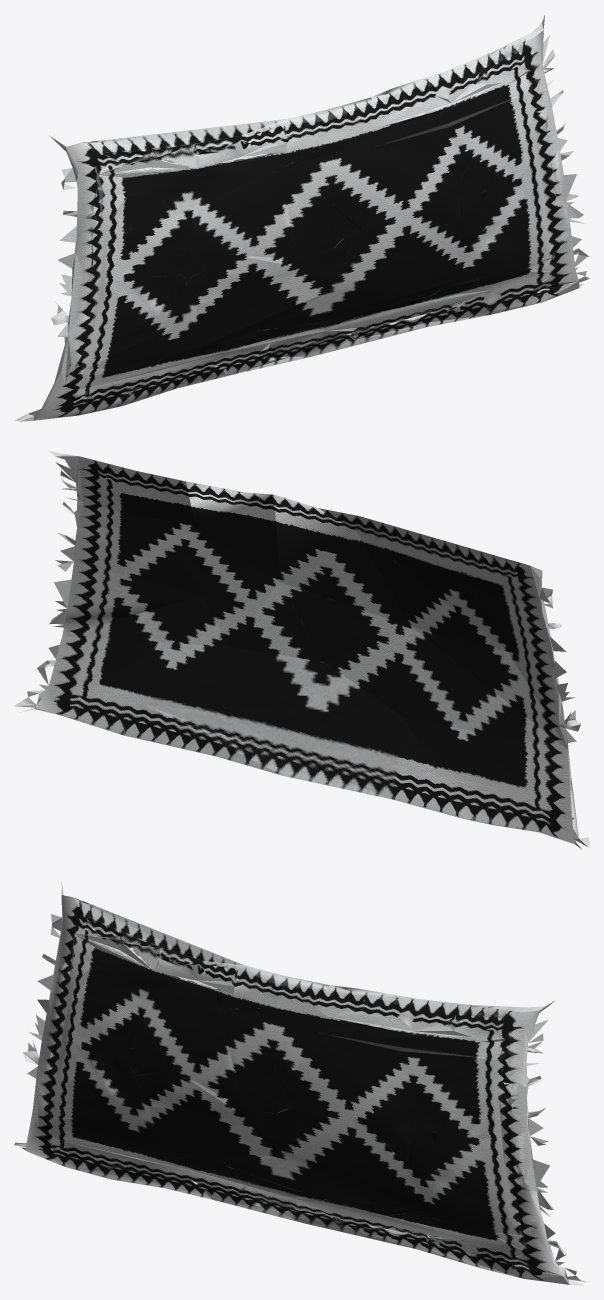
The model's file is Tapis4.fbx.
3 views of the same model, one above another, from view 1: azimuth 30°, elevation 25°; view 2: azimuth 150°, elevation 25°; view 3: azimuth 330°, elevation 25° (orthographic).
Visible parts, largest first — view 1: Mesh_0; view 2: Mesh_0; view 3: Mesh_0.
Boxes of the visible parts, x1,y1,x2,y2 form: Mesh_0: (14,15,589,421); Mesh_0: (14,450,589,849); Mesh_0: (14,882,587,1285).
Bounding box in the file's own units: 189 × 87.12 × 20.36.
Materials: 1 (1 with a texture image).
